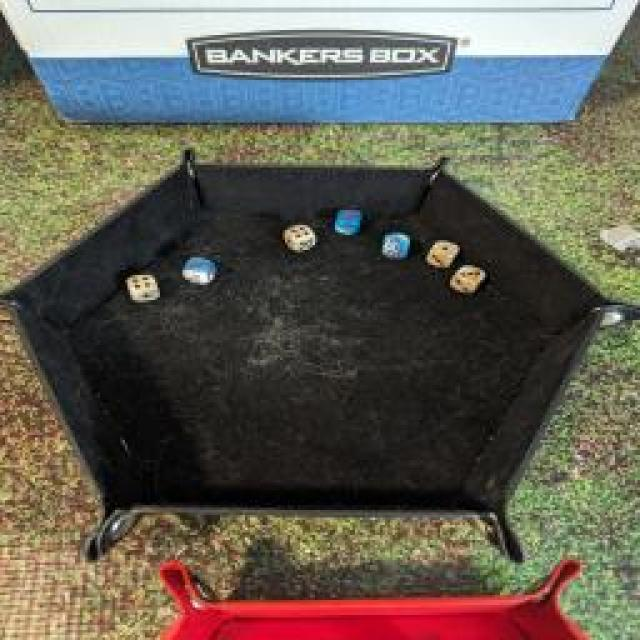dice_1: (416, 239, 464, 269), (380, 231, 410, 259)
dice_3: (449, 260, 489, 298), (182, 254, 218, 286)
dice_4: (121, 270, 161, 302), (278, 222, 318, 250)
dice_5: (335, 204, 365, 238)
